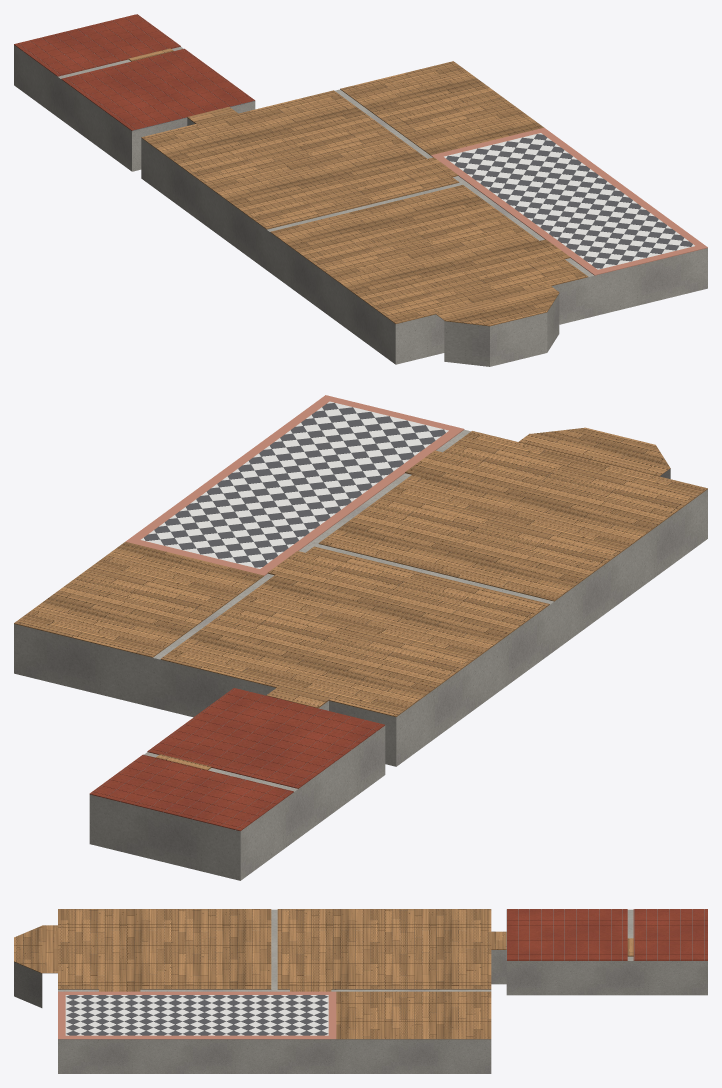
Rendered from slab_0_r.glb.
The picture shows the model from 3 angles, top to bottom: view 1: azimuth 30°, elevation 25°; view 2: azimuth 150°, elevation 25°; view 3: azimuth 270°, elevation 25°; orthographic projection. The views are drawn at different scales.
Parts seen in each view (by area): view 1: slab_0_r_wood, slab_0_r_conc_s, slab_0_r_quarry, slab_0_r_tile_b, slab_0_r_tile_w2, slab_0_r_tile_r, slab_0_r_grille; view 2: slab_0_r_wood, slab_0_r_conc_s, slab_0_r_quarry, slab_0_r_tile_b, slab_0_r_tile_w2, slab_0_r_tile_r, slab_0_r_grille; view 3: slab_0_r_wood, slab_0_r_conc_s, slab_0_r_quarry, slab_0_r_tile_b, slab_0_r_tile_w2, slab_0_r_tile_r, slab_0_r_grille.
Part boxes in pixels (x1,y1,x2,y2): slab_0_r_wood: (128, 48, 588, 326); slab_0_r_conc_s: (14, 45, 707, 366); slab_0_r_quarry: (14, 14, 254, 130); slab_0_r_tile_b: (446, 134, 692, 268); slab_0_r_tile_w2: (444, 133, 694, 269); slab_0_r_tile_r: (431, 127, 707, 275); slab_0_r_grille: (25, 15, 692, 263); slab_0_r_wood: (14, 427, 707, 770); slab_0_r_conc_s: (14, 429, 707, 880); slab_0_r_quarry: (89, 688, 384, 831); slab_0_r_tile_b: (144, 403, 445, 567); slab_0_r_tile_w2: (141, 401, 448, 568); slab_0_r_tile_r: (126, 395, 464, 575); slab_0_r_grille: (91, 404, 445, 829); slab_0_r_wood: (14, 909, 633, 1039); slab_0_r_conc_s: (14, 909, 707, 1073); slab_0_r_quarry: (507, 909, 707, 960); slab_0_r_tile_b: (66, 995, 327, 1035); slab_0_r_tile_w2: (65, 995, 328, 1035); slab_0_r_tile_r: (58, 991, 336, 1039); slab_0_r_grille: (506, 909, 704, 960).
Bounding box in the file's own units: 5.95 × 0.756 × 13.45.
8 materials, 4 textured.
